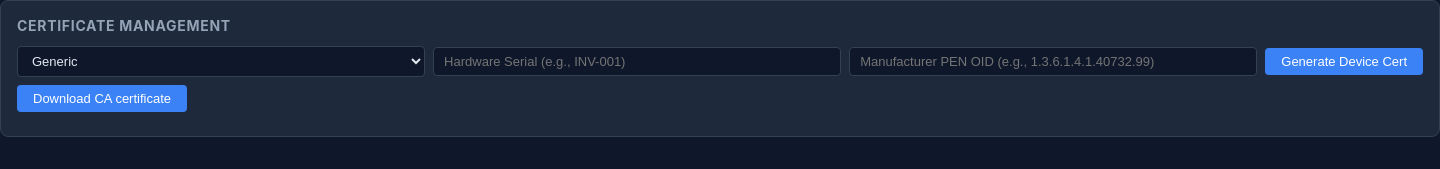
Test case: CertPanel › reports a CA download failure
The width and height of the screenshot is (1440, 169).
Expected: the dropdown with id "deviceType" is enabled, [17, 46, 425, 77]
What coordinates should you click on to do the following:
click the button with test id "download-ca"
I would click on:
 (102, 98)
Its box is [17, 85, 187, 112].
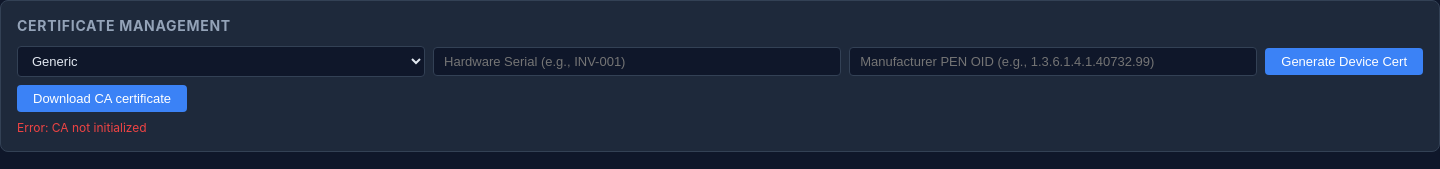
Expected: the text with test id "ca-result" reads "Error: CA not initialized", [17, 120, 147, 135]
